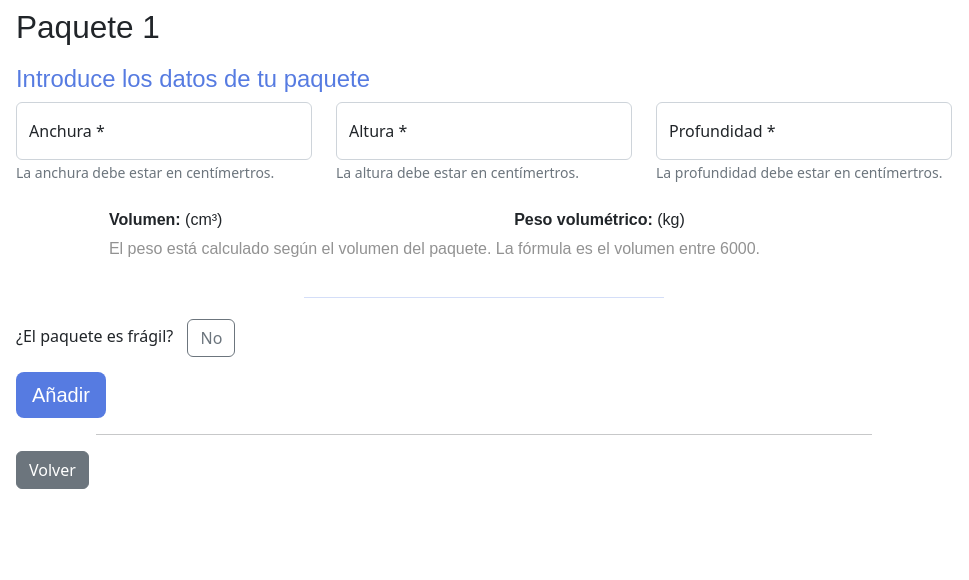
Test: SendPackage › Muestra el texto "El peso de los paquetes no puede superar los 50 kg." en el caso de que el peso volumétrico supere los 50 kg y se dé al botón de añadir
The width and height of the screenshot is (969, 580).
In the number field labelled "Anchura *": coordinates (164, 130) [16, 102, 312, 160], type "1000"
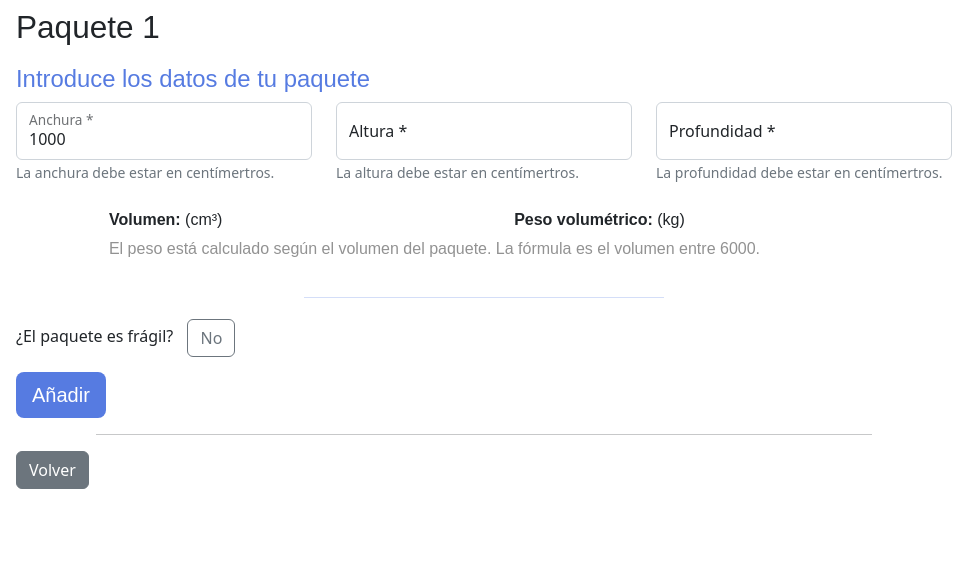
In the number field labelled "Altura *": coordinates (484, 130) [336, 102, 632, 160], type "1000"
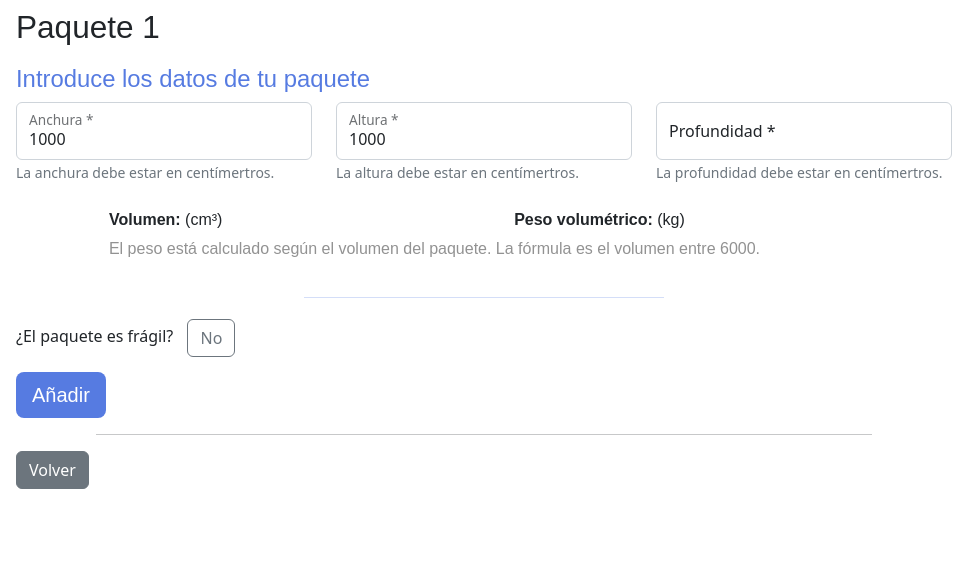
In the number field labelled "Profundidad *": coordinates (804, 130) [656, 102, 952, 160], type "1000"
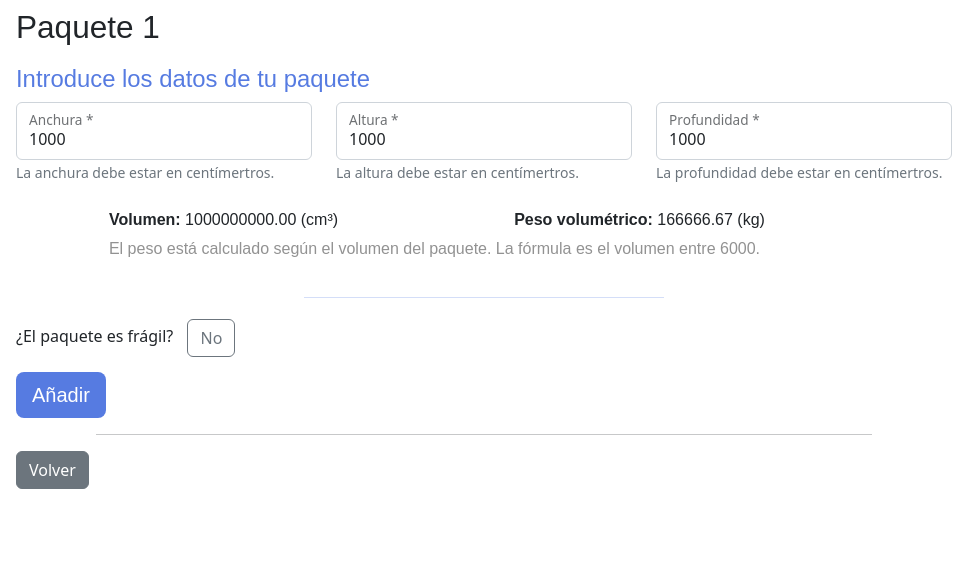
Click the button "Añadir": coordinates (61, 395) [16, 372, 106, 418]
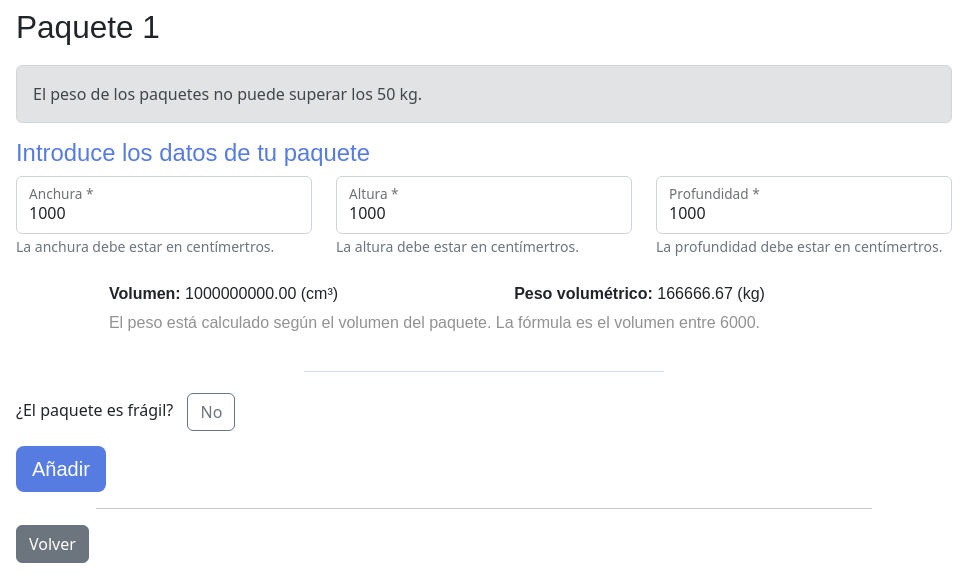
Check: the text "El peso de los paquetes no puede superar los 50 kg." is shown, box [16, 65, 952, 123]
